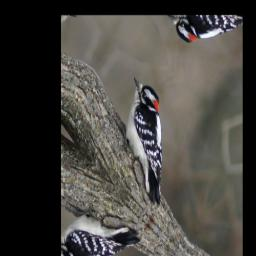Woodpecker: (98, 72, 199, 210)
